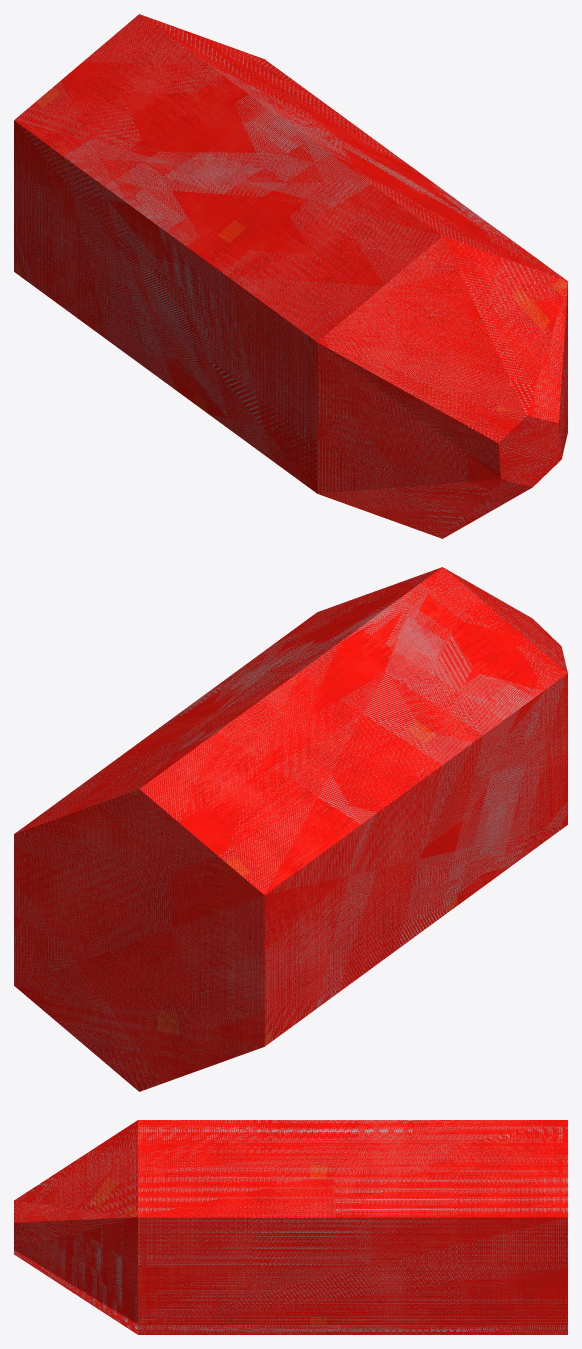
File: gunBullet.dae
The picture shows the model from 3 angles, top to bottom: view 1: azimuth 30°, elevation 25°; view 2: azimuth 150°, elevation 25°; view 3: azimuth 270°, elevation 25°; orthographic projection. The views are drawn at different scales.
Parts seen in each view (by area): view 1: SketchUp; view 2: SketchUp; view 3: SketchUp.
Part boxes in pixels (x1,y1,x2,y2): SketchUp: [14, 14, 567, 538]; SketchUp: [14, 567, 567, 1091]; SketchUp: [14, 1120, 567, 1334].
Size of the model in its own units: 42.16 by 114 by 48.69.
Materials: 2 (1 with a texture image).
